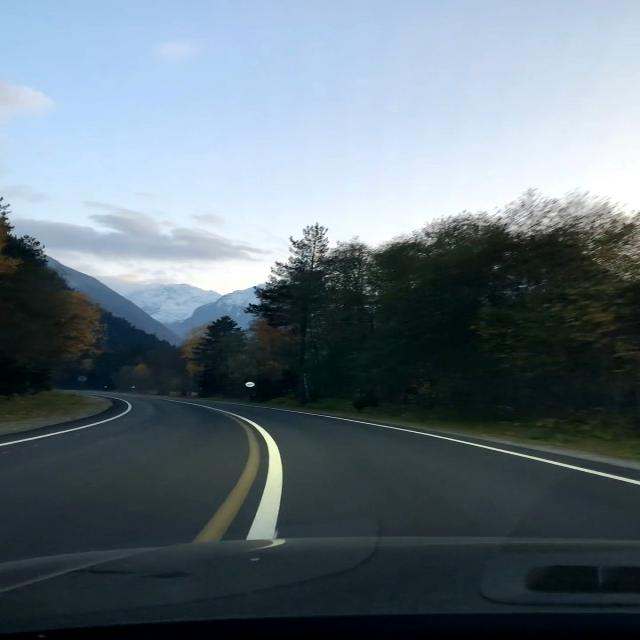lane: (276, 409, 640, 484), (193, 419, 260, 542), (228, 412, 282, 540), (0, 398, 131, 446)
road: (3, 395, 637, 640)
